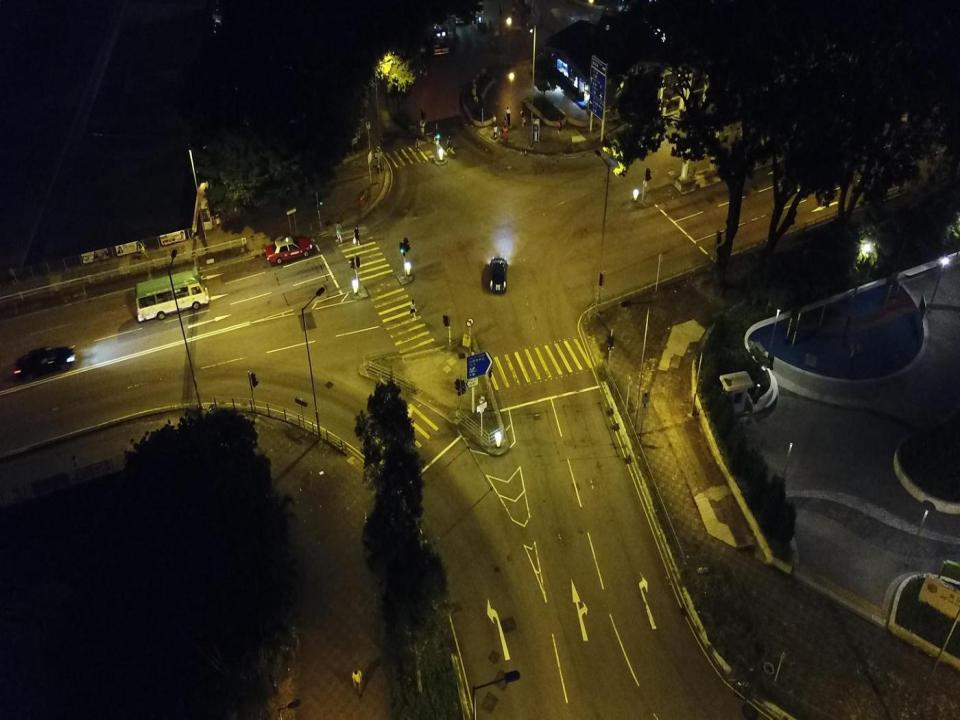bus: (135, 270, 209, 322)
car: (15, 344, 76, 381), (263, 232, 313, 264), (489, 258, 508, 294), (431, 36, 449, 56)
